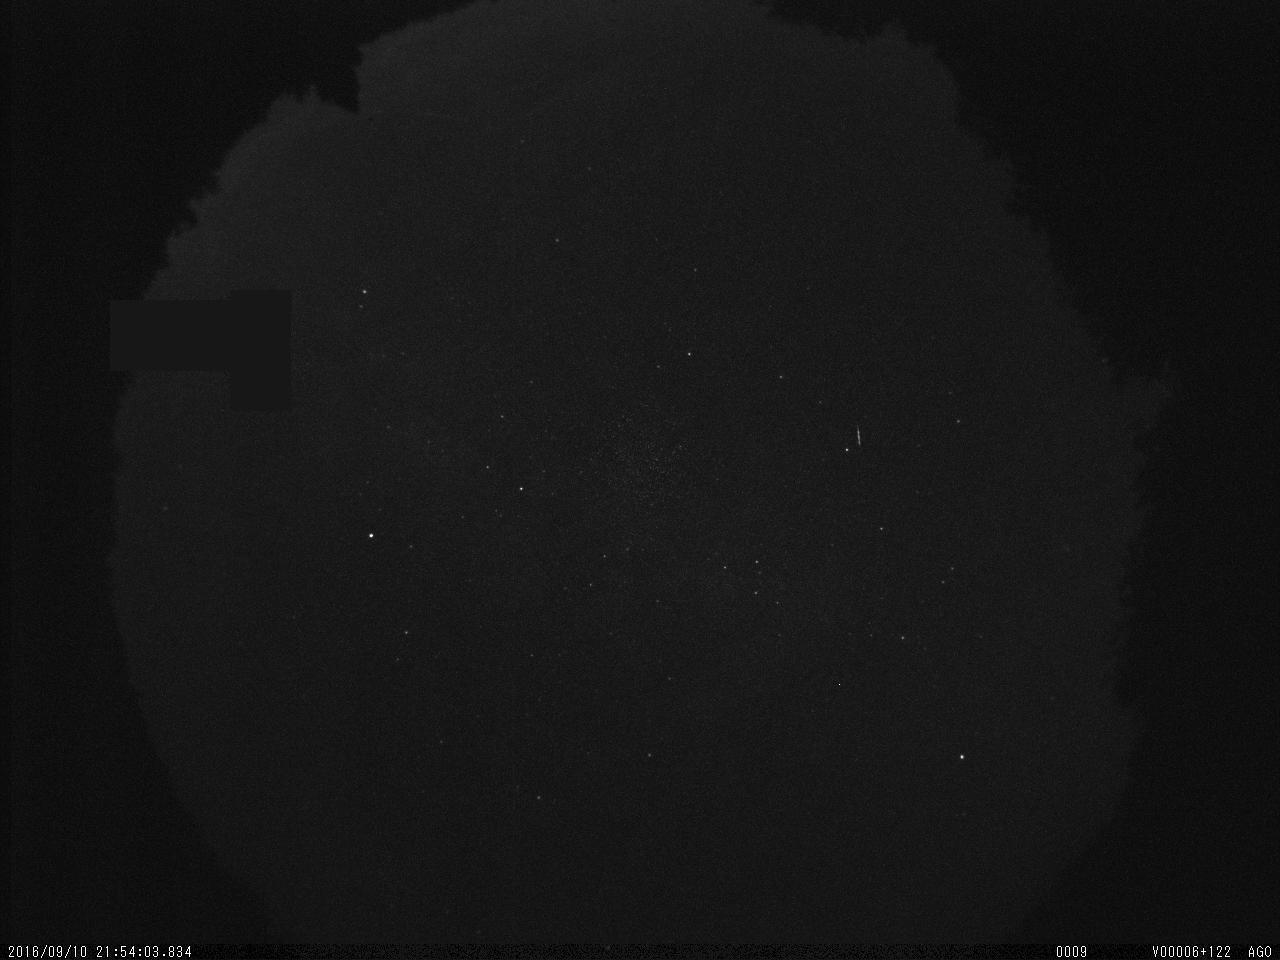Meteor: (852, 418, 868, 462)
